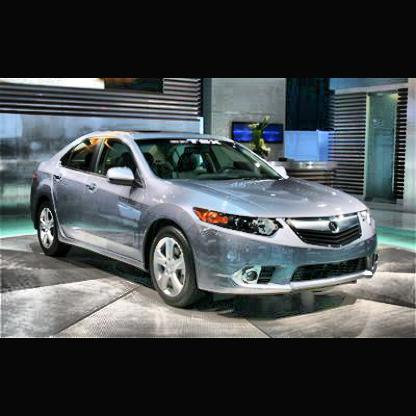Acura TSX Sedan 2012: (34, 130, 378, 309)
